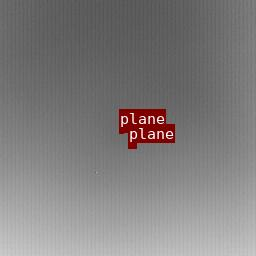plane: (119, 128, 132, 132), (128, 143, 136, 146)
